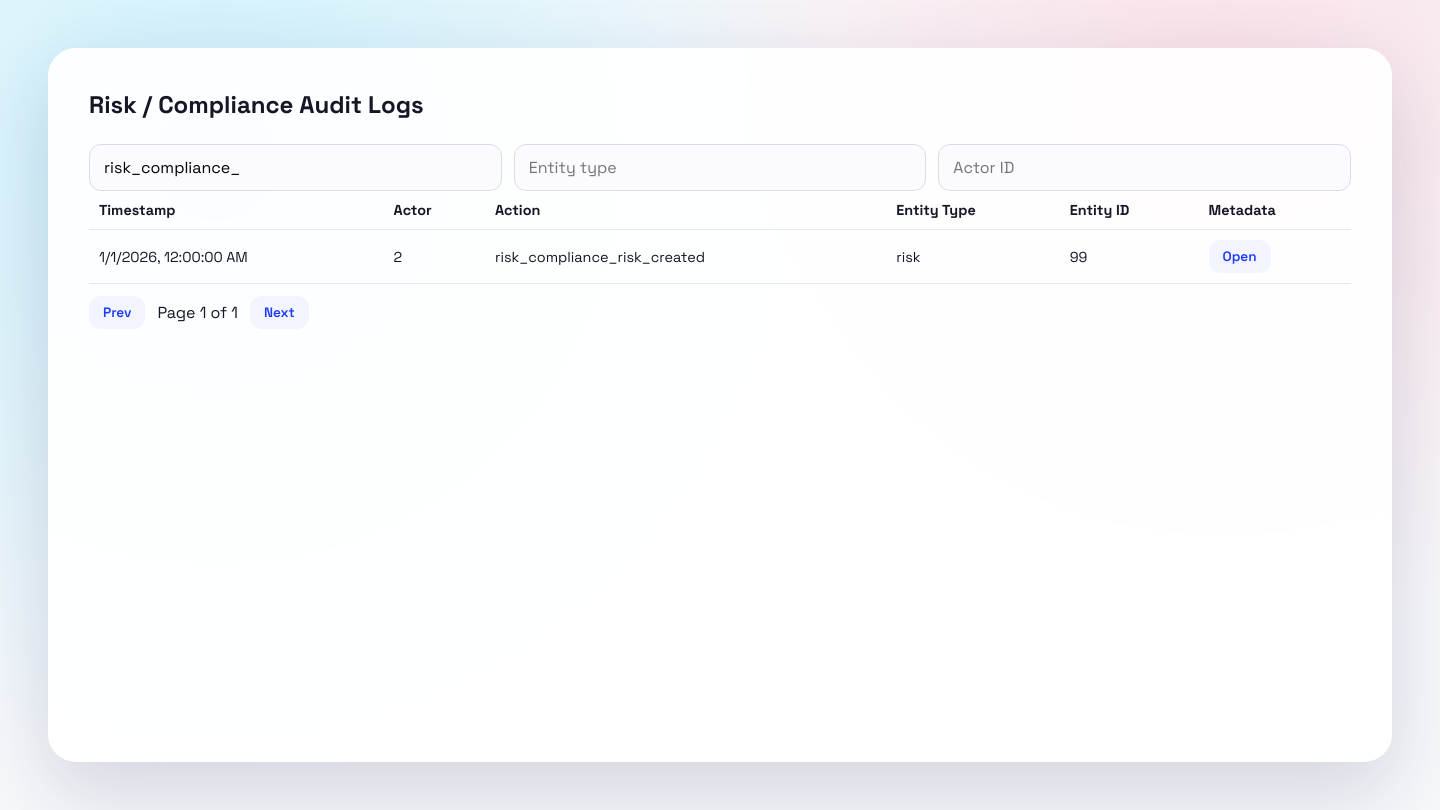
it: Approval trails and audit logs › renders audit events, supports pagination controls and metadata drawer
The width and height of the screenshot is (1440, 810).
Expected: the text "risk_compliance_risk_created" is shown, [485, 230, 886, 284]
Step 1. Click the button "Open" → [1240, 256], box [1208, 240, 1271, 273]
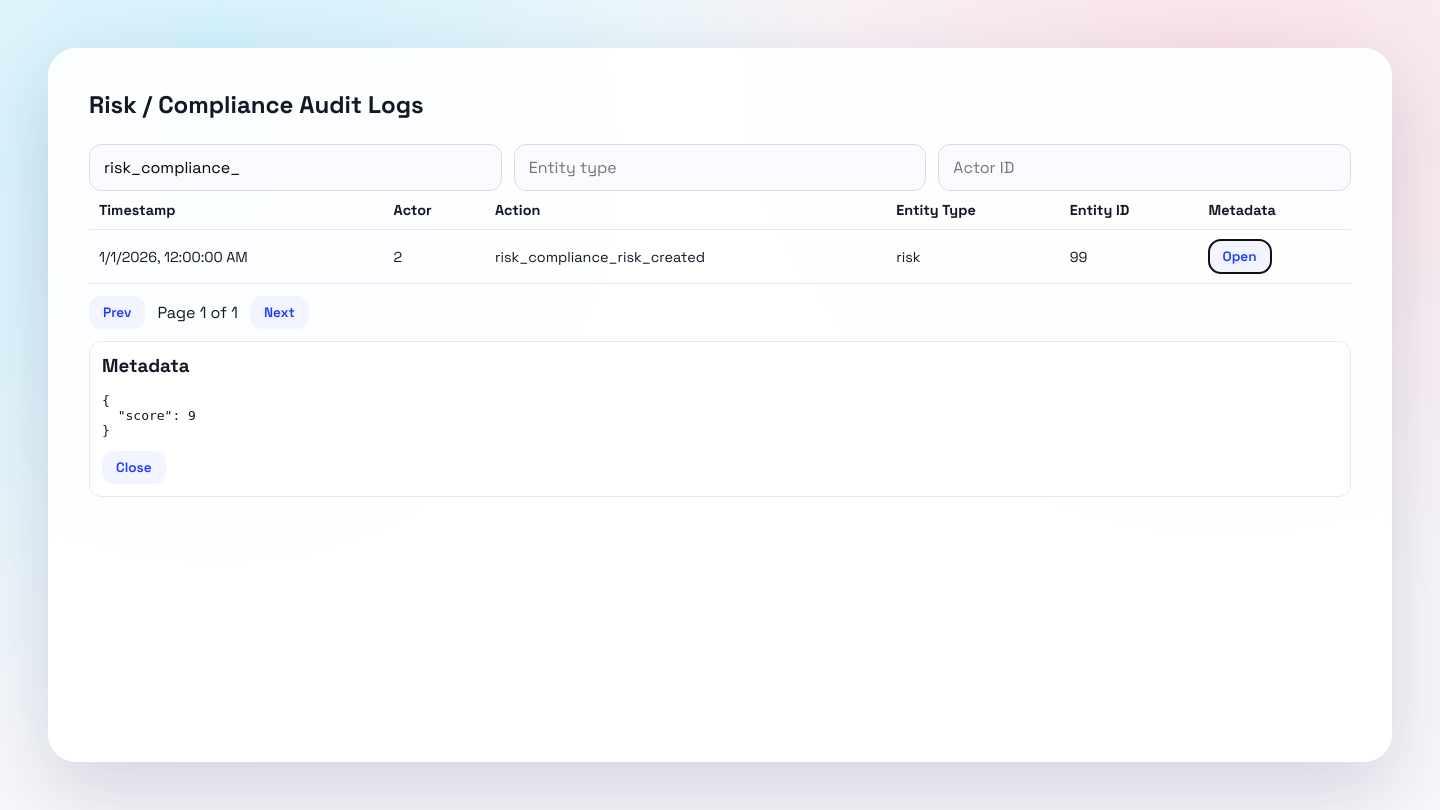
Expected: the button "Next" is shown, [250, 296, 309, 329]
Expected: the text "{ \"score\": 9 }" is shown, [102, 393, 196, 438]
